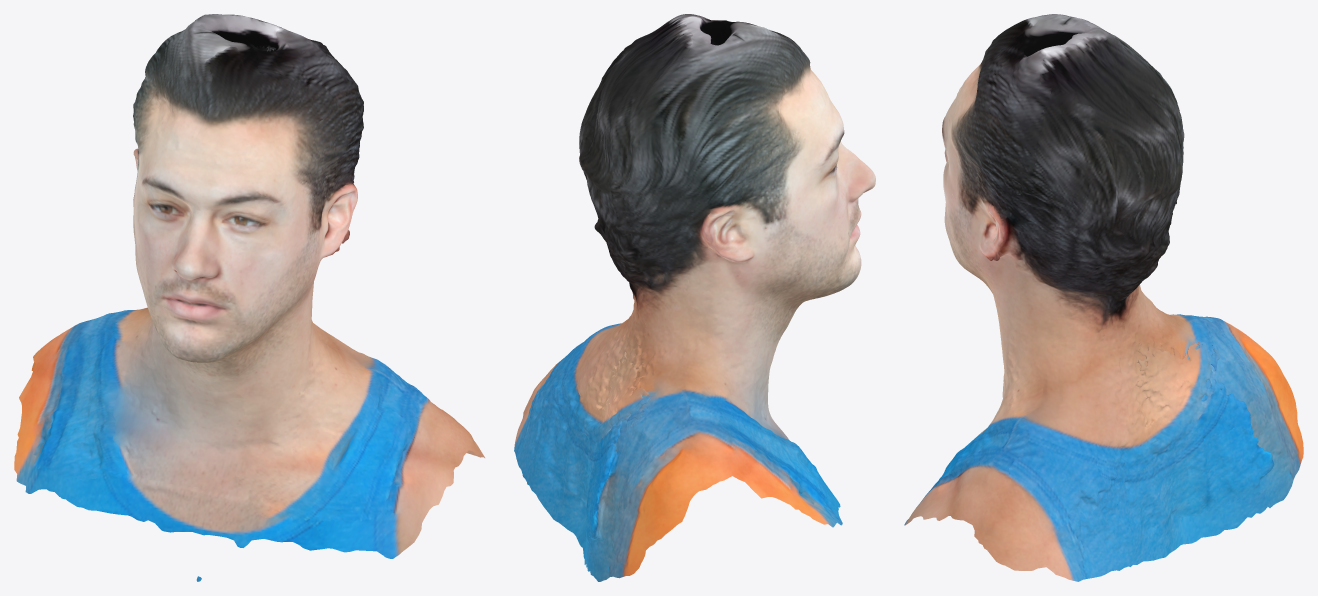
Rendered from lito.glb.
3 renders of one model, left to right at view 1: azimuth 30°, elevation 25°; view 2: azimuth 150°, elevation 25°; view 3: azimuth 270°, elevation 25°, orthographic. The views are drawn at different scales.
Parts seen in each view (by area): view 1: Object_2, Object_3; view 2: Object_2, Object_3; view 3: Object_2, Object_3.
Boxes of the visible parts, box(x1,y1,x2,y2) form: Object_2: box(19, 14, 484, 581); Object_3: box(14, 14, 363, 550); Object_2: box(514, 16, 874, 581); Object_3: box(583, 14, 875, 568); Object_2: box(904, 19, 1303, 581); Object_3: box(942, 14, 1293, 516).
Size of the model in its own units: 0.7244 by 0.9003 by 0.6823.
1 material, 1 textured.
